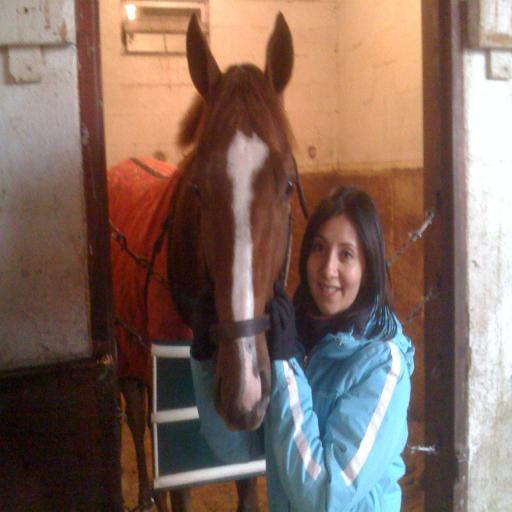horse: (102, 9, 303, 512)
